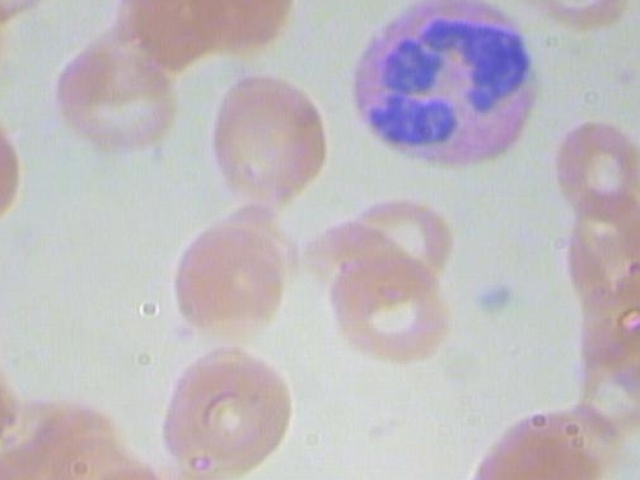Platelets: (472, 268, 523, 324)
RBC: (151, 349, 315, 480), (197, 66, 339, 203), (56, 31, 198, 168), (160, 213, 302, 350), (319, 241, 455, 370), (301, 215, 425, 309), (342, 186, 466, 280), (551, 187, 640, 317), (468, 405, 613, 480), (541, 110, 640, 219), (94, 0, 255, 65), (0, 104, 41, 237), (510, 0, 640, 26), (0, 338, 25, 451), (0, 0, 63, 24)
WBC: (332, 0, 567, 173)
